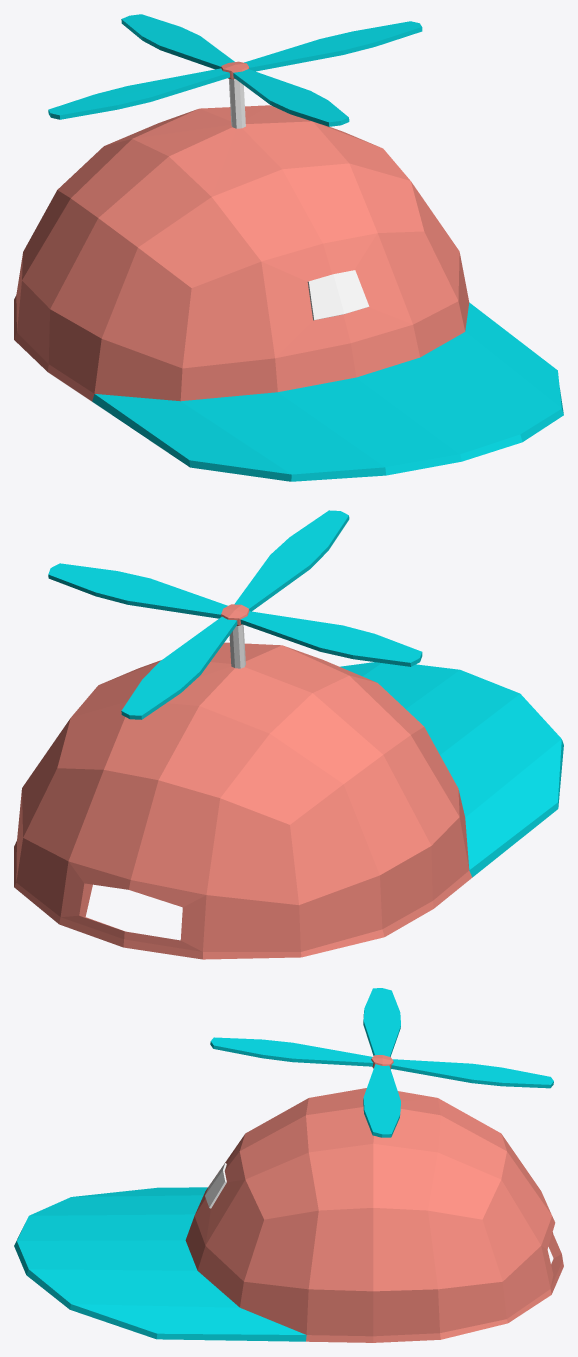
File: propeller_hat.glb
The picture shows the model from 3 angles, top to bottom: view 1: azimuth 30°, elevation 25°; view 2: azimuth 150°, elevation 25°; view 3: azimuth 270°, elevation 25°; orthographic projection. The views are drawn at different scales.
Parts seen in each view (by area): view 1: Object_4, Object_5, Object_6; view 2: Object_4, Object_5, Object_6; view 3: Object_4, Object_5, Object_6.
Part boxes in pixels (x1=…): Object_4: x1=14, y1=61, x2=469, y2=401; Object_5: x1=48, y1=14, x2=563, y2=481; Object_6: x1=229, y1=79, x2=369, y2=320; Object_4: x1=14, y1=604, x2=472, y2=959; Object_5: x1=48, y1=510, x2=563, y2=877; Object_6: x1=229, y1=624, x2=245, y2=668; Object_4: x1=185, y1=1055, x2=563, y2=1342; Object_5: x1=14, y1=988, x2=553, y2=1341; Object_6: x1=205, y1=1163, x2=226, y2=1208.
Bounding box in the file's own units: 6.77 × 4.64 × 10.27.
